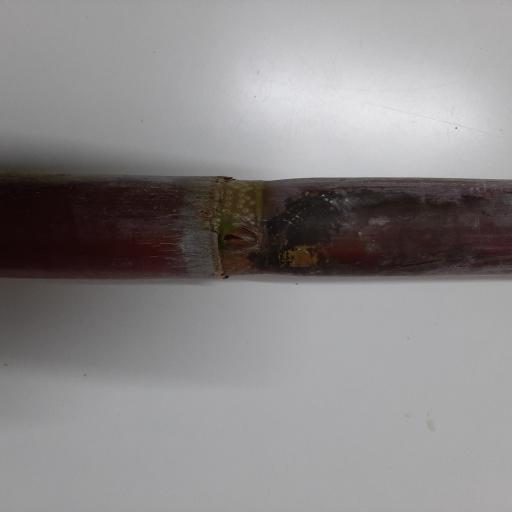Bud: (219, 225, 260, 249)
